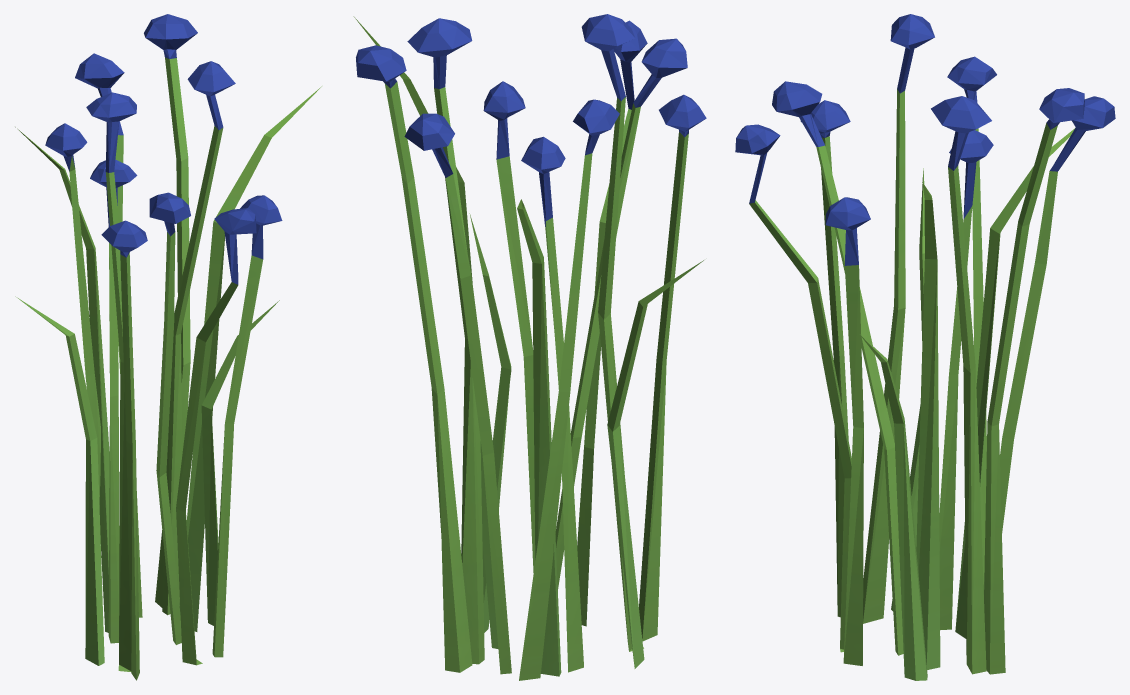
Rendered from flower_blue.glb.
3 renders of one model, left to right at view 1: azimuth 30°, elevation 25°; view 2: azimuth 150°, elevation 25°; view 3: azimuth 270°, elevation 25°, orthographic. The views are drawn at different scales.
Visible parts, largest first — view 1: flower_blue; view 2: flower_blue; view 3: flower_blue.
Boxes of the visible parts, x1,y1,x2,y2 form: flower_blue: (15, 14, 321, 680); flower_blue: (353, 14, 706, 680); flower_blue: (735, 14, 1115, 680).
Bounding box in the file's own units: 0.2873 × 0.5 × 0.2836.
Materials: 1 (1 with a texture image).
